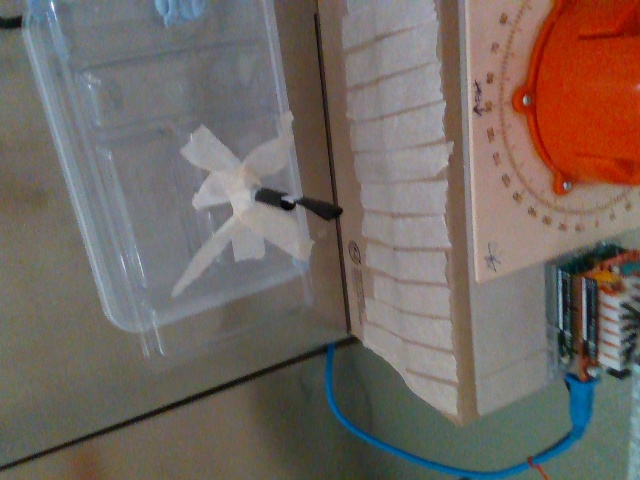test_strip: (281, 189, 343, 221)
